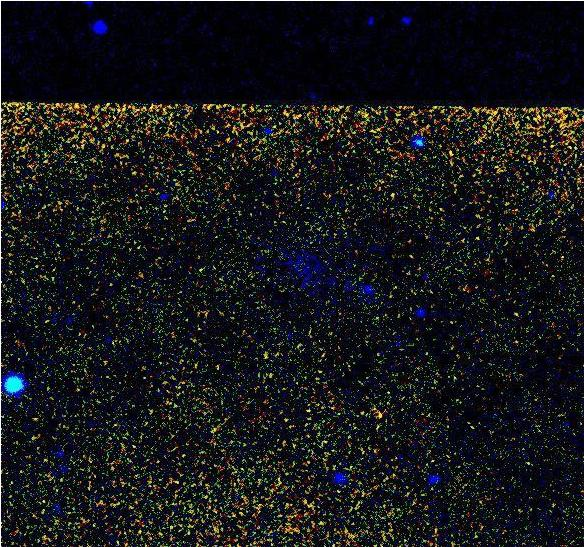star: (360, 402, 390, 432)
